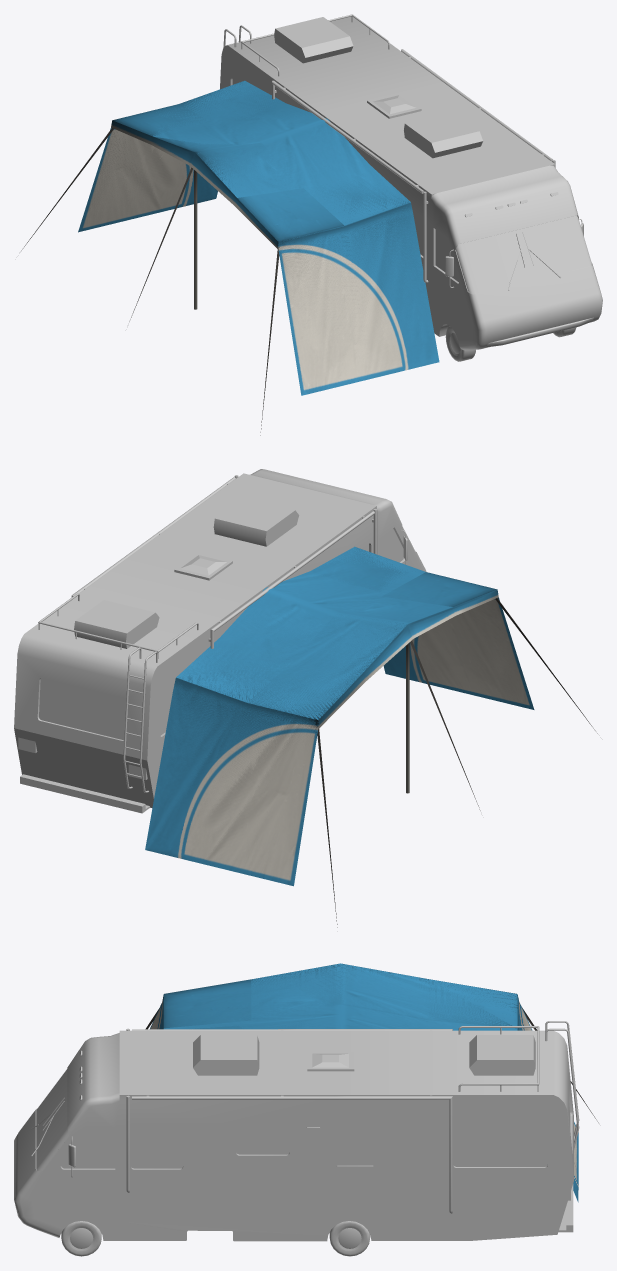
File: caravan.FBX
3 views of the same model, one above another, from view 1: azimuth 30°, elevation 25°; view 2: azimuth 150°, elevation 25°; view 3: azimuth 270°, elevation 25° (orthographic). The views are drawn at different scales.
Parts seen in each view (by area): view 1: caravan, caravan tent; view 2: caravan tent, caravan; view 3: caravan, caravan tent.
Boxes of the visible parts, x1=… form: caravan: x1=220, y1=14, x2=602, y2=361; caravan tent: x1=21, y1=80, x2=439, y2=435; caravan tent: x1=145, y1=546, x2=597, y2=927; caravan: x1=14, y1=469, x2=426, y2=813; caravan: x1=14, y1=1021, x2=579, y2=1256; caravan tent: x1=145, y1=963, x2=598, y2=1202.
Bounding box in the file's own units: 813 × 465 × 1165.
